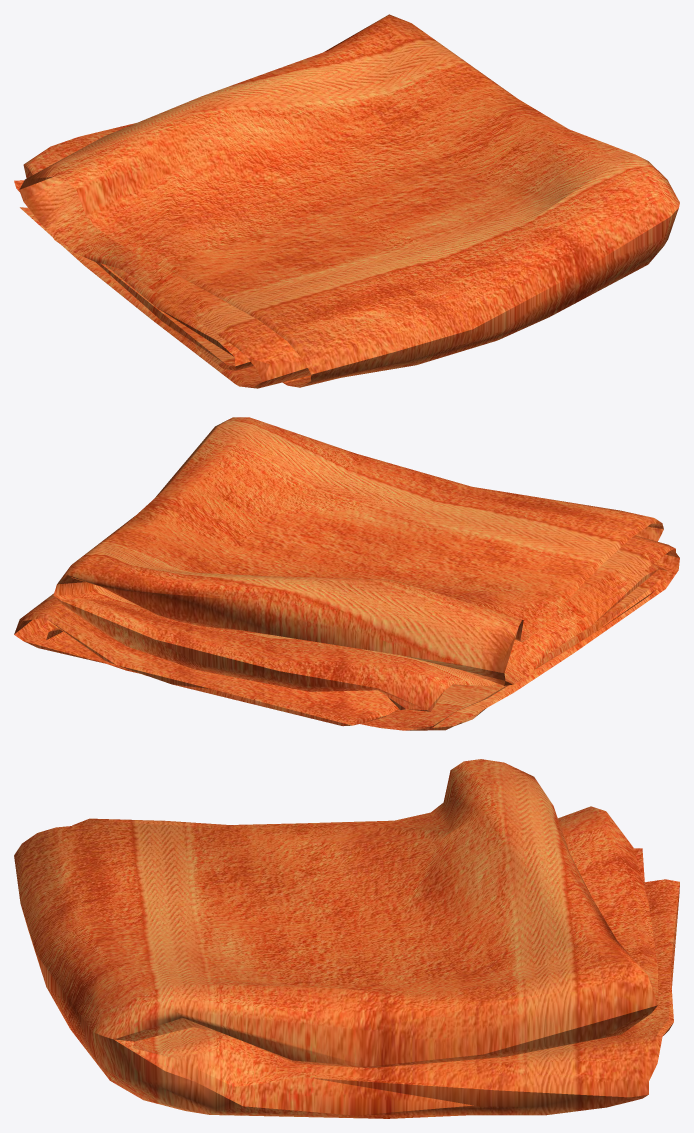
The model's file is Towel.FBX.
3 views of the same model, one above another, from view 1: azimuth 30°, elevation 25°; view 2: azimuth 150°, elevation 25°; view 3: azimuth 270°, elevation 25° (orthographic). The views are drawn at different scales.
Visible parts, largest first — view 1: Towel; view 2: Towel; view 3: Towel.
Boxes of the visible parts, x1,y1,x2,y2 form: Towel: (14,14,679,388); Towel: (14,417,679,730); Towel: (14,759,679,1118).
Bounding box in the file's own units: 10.45 × 11.03 × 2.5.
1 material, 1 textured.
